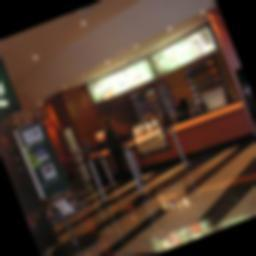Otro Obstaculo: (115, 141, 154, 204), (163, 122, 198, 177), (82, 154, 114, 208)
